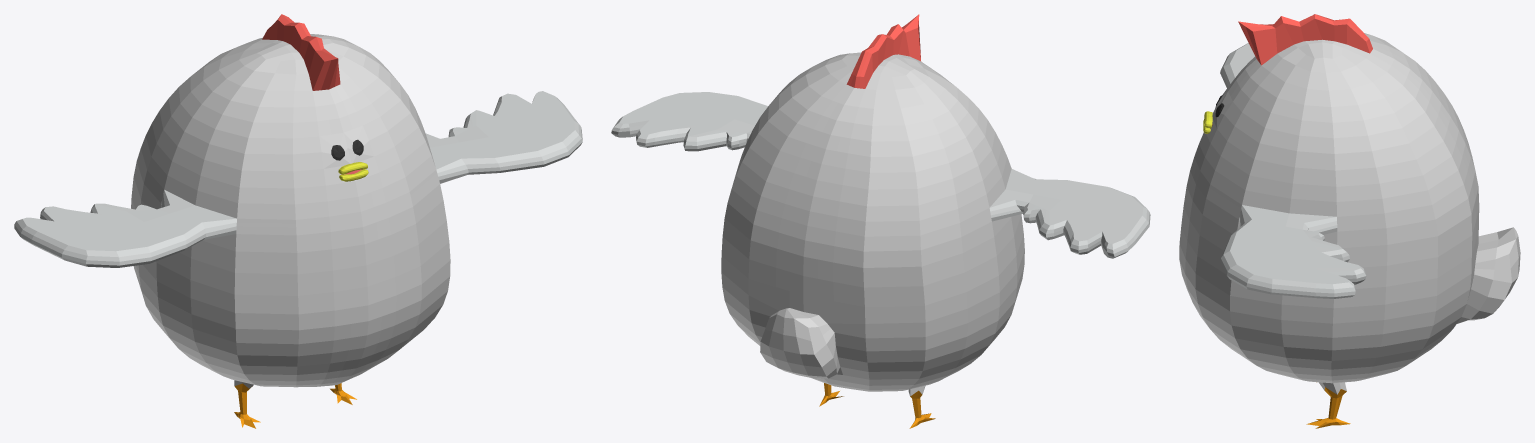
The model's file is 4_chicken.fbx.
The picture shows the model from 3 angles, left to right: view 1: azimuth 30°, elevation 25°; view 2: azimuth 150°, elevation 25°; view 3: azimuth 270°, elevation 25°; orthographic projection. The views are drawn at different scales.
Parts seen in each view (by area): view 1: niwaegg; view 2: niwaegg; view 3: niwaegg.
Boxes of the visible parts, <box> form: niwaegg: <box>14,14,582,428</box>; niwaegg: <box>611,14,1150,428</box>; niwaegg: <box>1179,14,1520,428</box>.
Size of the model in its own units: 113 by 78.69 by 62.83.
